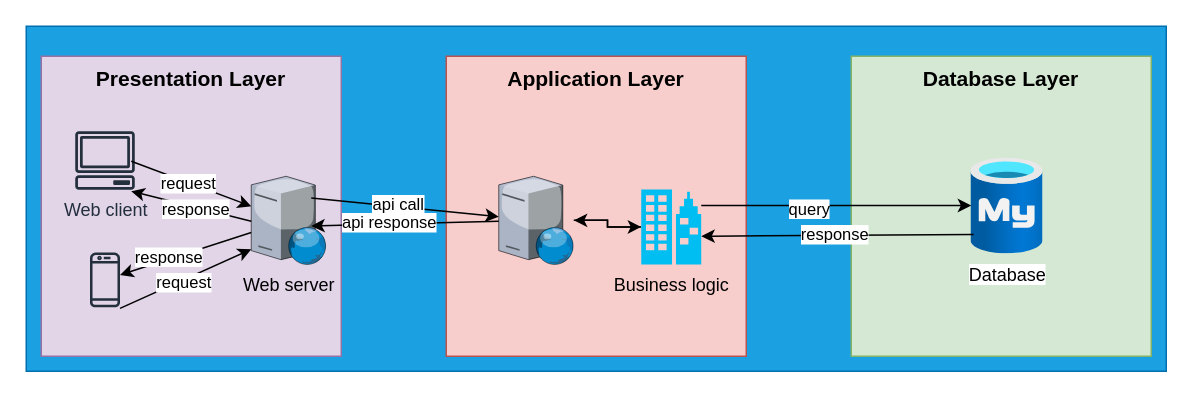
Some shapes in this 1193 by 398 pixel diagram are drawn without their labels. The shapes that lost their labels are listed below. From the top down, each one's box as (x1, y1, x2, y2) in pixels, then its label:
(498, 176, 573, 264): Api server
(89, 250, 119, 308): Mobile client
